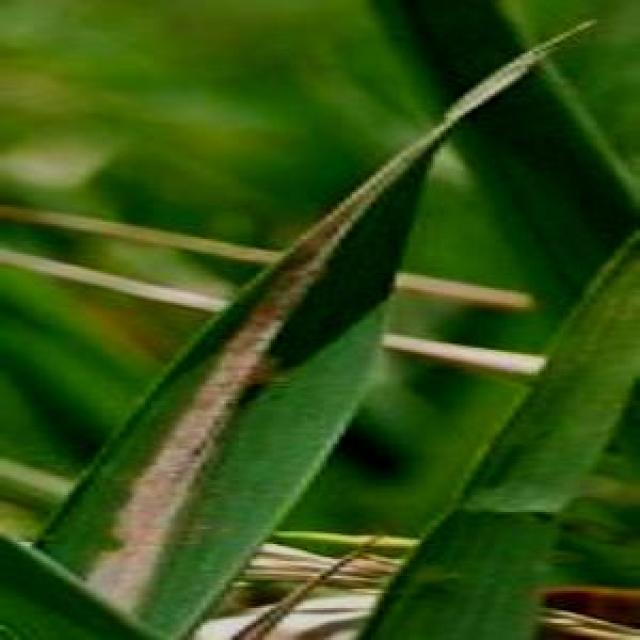Bacterial_Leaf_Blight: (79, 301, 275, 614)
